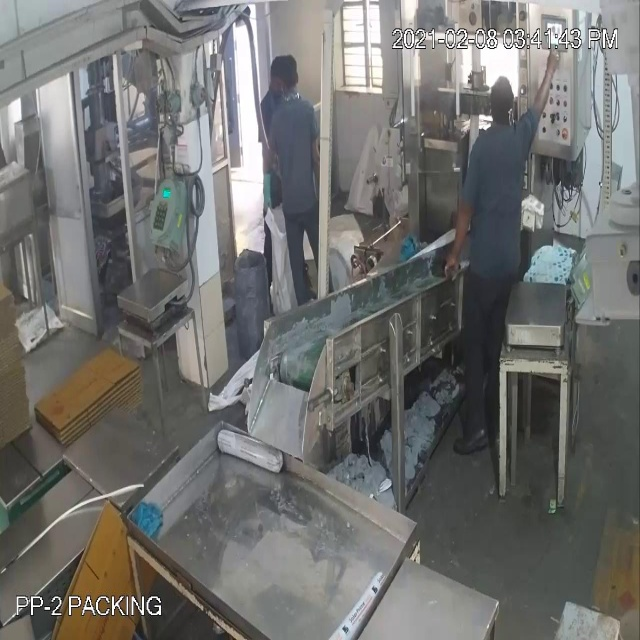Sin_guantes: (443, 184, 480, 295), (526, 50, 563, 122)
